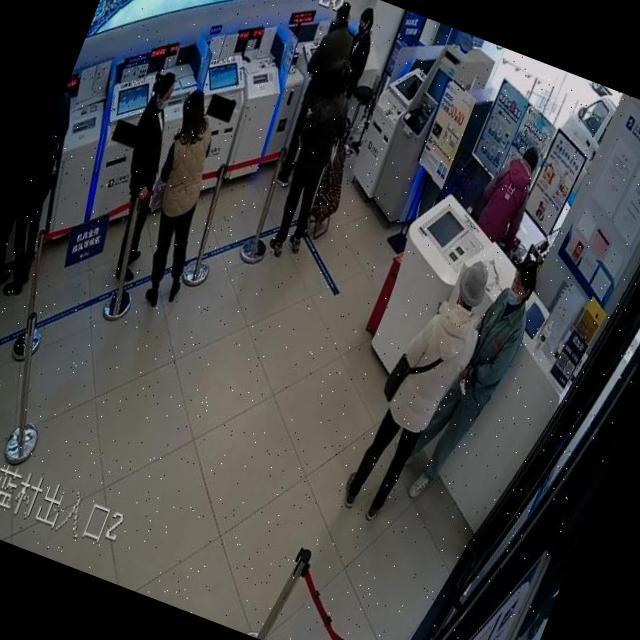person: (338, 245, 502, 534), (395, 247, 549, 516), (112, 87, 250, 315), (82, 67, 208, 284), (255, 58, 369, 266), (0, 77, 101, 297), (265, 0, 368, 189), (466, 137, 548, 254), (330, 5, 386, 101), (0, 197, 37, 294)
